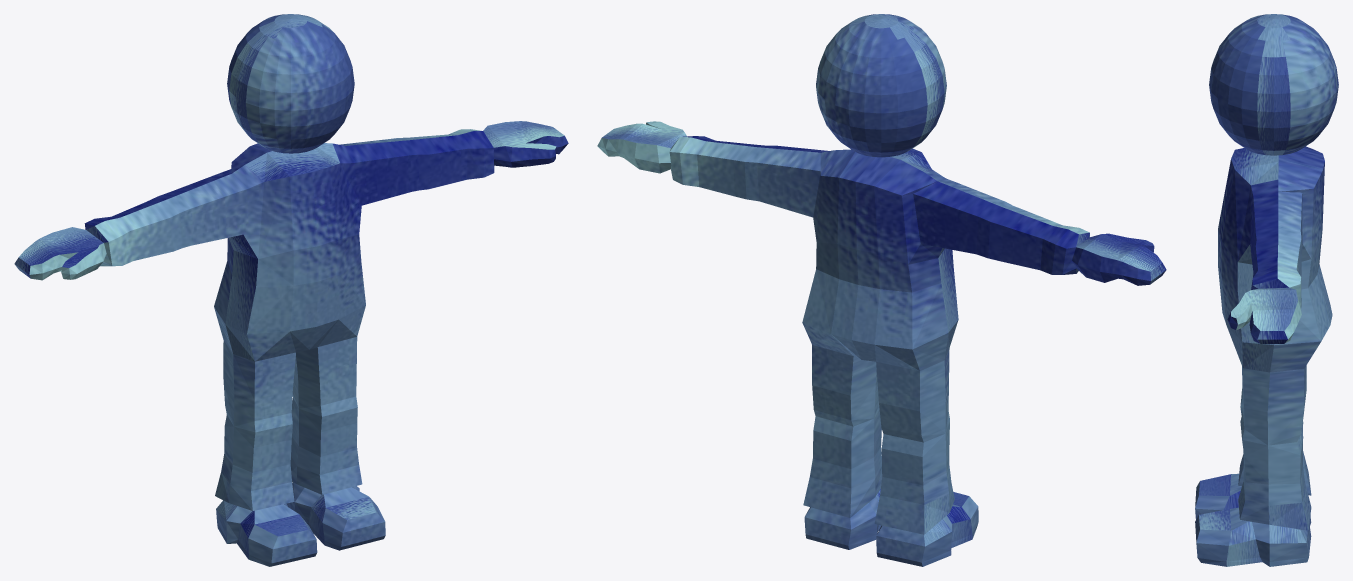
Rendered from simplemodel.obj.
3 views of the same model, side by side, from view 1: azimuth 30°, elevation 25°; view 2: azimuth 150°, elevation 25°; view 3: azimuth 270°, elevation 25° (orthographic). The views are drawn at different scales.
Parts seen in each view (by area): view 1: Mesh_Mesh_Mesh_t_model; view 2: Mesh_Mesh_Mesh_t_model; view 3: Mesh_Mesh_Mesh_t_model.
Boxes of the visible parts, <box> form: Mesh_Mesh_Mesh_t_model: <box>14,14,568,566</box>; Mesh_Mesh_Mesh_t_model: <box>597,14,1166,566</box>; Mesh_Mesh_Mesh_t_model: <box>1195,14,1338,566</box>.
Bounding box in the file's own units: 3.74 × 3.37 × 0.8518.
Materials: 1 (1 with a texture image).
